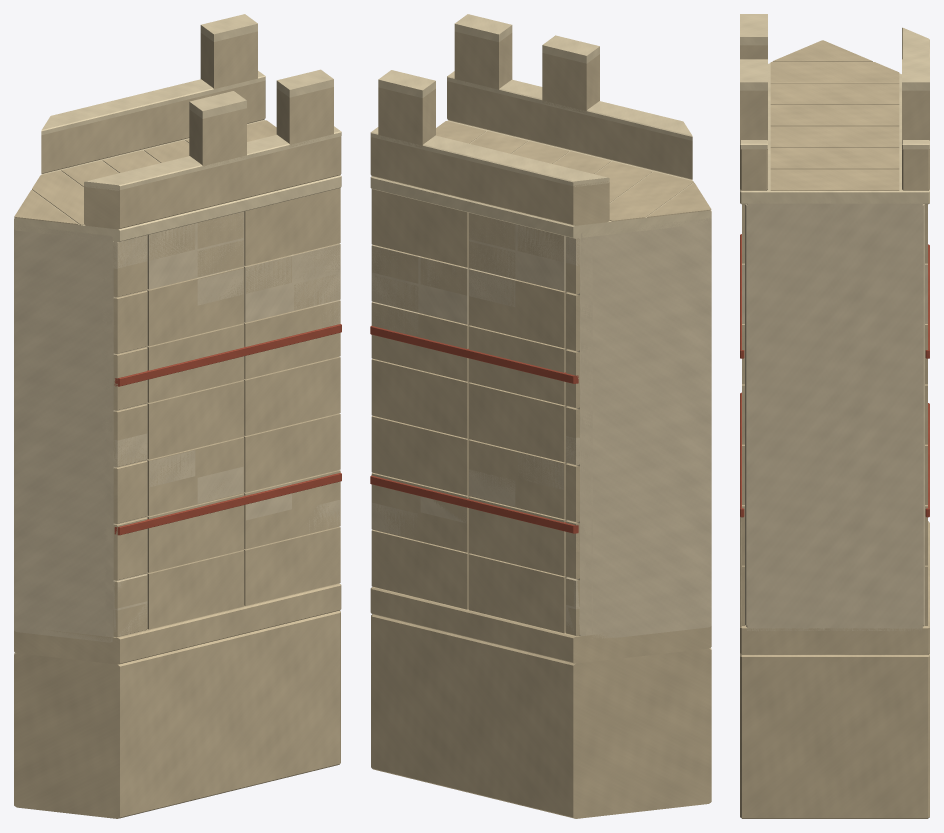
File: verona_gate_diagonal_link.glb
3 renders of one model, left to right at view 1: azimuth 30°, elevation 25°; view 2: azimuth 150°, elevation 25°; view 3: azimuth 270°, elevation 25°, orthographic. The views are drawn at different scales.
Parts seen in each view (by area): view 1: Travertine.001, Travertine.002, Limewash.001, Limestone_trim.001, Limewash.002, Pompeian_red.001, Limestone_trim.002; view 2: Travertine.001, Limewash.001, Travertine.002, Limestone_trim.001, Limewash.002, Pompeian_red.001, Limestone_trim.002; view 3: Limewash.001, Travertine.001, Limestone_trim.001, Travertine.002, Limestone_trim.002, Pompeian_red.001, Limewash.002.
Boxes of the visible parts, x1,y1,x2,y2 form: Travertine.001: [14, 34, 341, 818]; Travertine.002: [113, 31, 340, 629]; Limewash.001: [14, 225, 339, 642]; Limestone_trim.001: [14, 15, 341, 241]; Limewash.002: [113, 211, 340, 636]; Pompeian_red.001: [114, 324, 341, 535]; Limestone_trim.002: [189, 14, 333, 118]; Travertine.001: [370, 33, 711, 818]; Limewash.001: [372, 218, 711, 638]; Travertine.002: [371, 31, 599, 633]; Limestone_trim.001: [370, 15, 711, 238]; Limewash.002: [371, 213, 579, 633]; Pompeian_red.001: [370, 326, 578, 533]; Limestone_trim.002: [378, 14, 599, 97]; Limewash.001: [743, 201, 926, 631]; Travertine.001: [740, 40, 929, 818]; Limestone_trim.001: [740, 14, 929, 204]; Travertine.002: [740, 45, 929, 625]; Limestone_trim.002: [740, 14, 929, 90]; Pompeian_red.001: [740, 234, 929, 517]; Limewash.002: [742, 263, 927, 323].
Size of the model in its own units: 4.31 by 9.8 by 2.3.
Materials: 4 (4 with a texture image).
